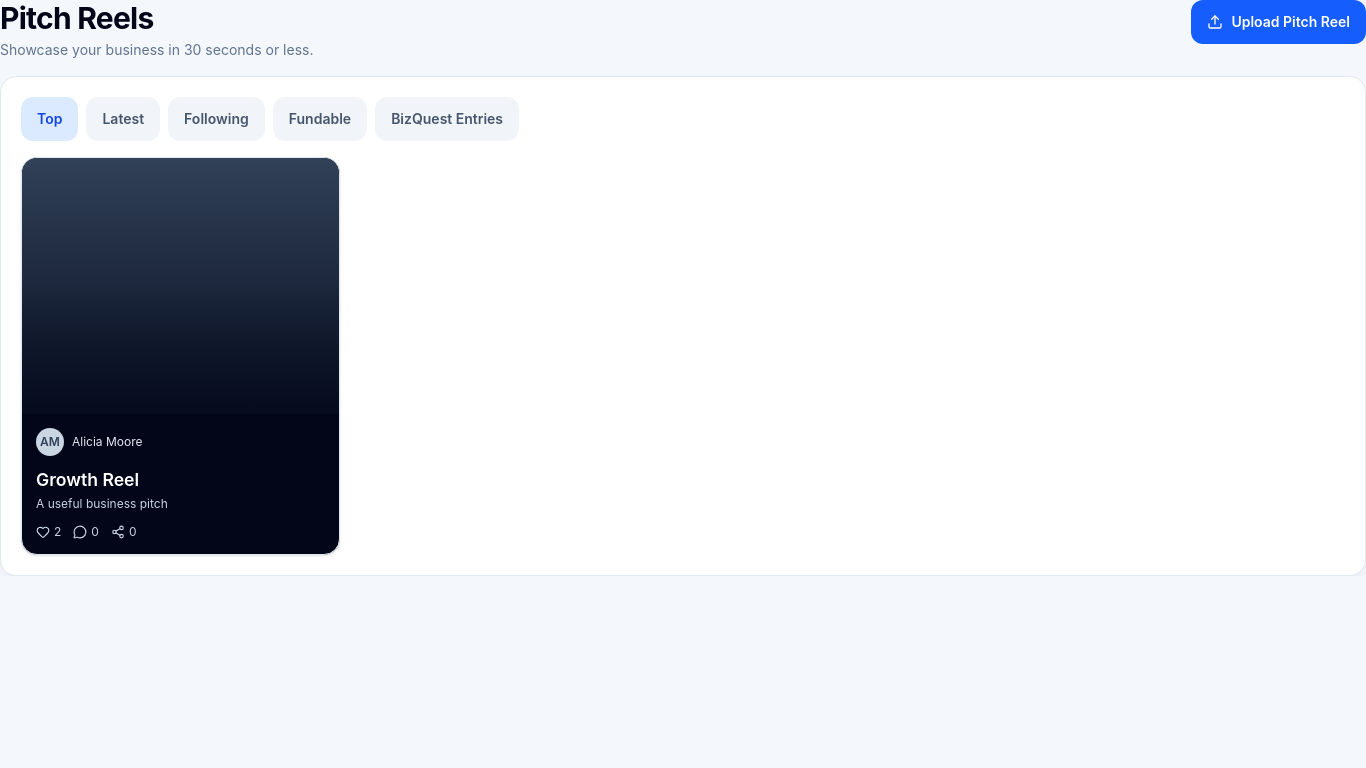
PitchReelsPage interactions › loads and creates comments while synchronizing the count
This screenshot has width=1366, height=768.
Click the button with aria-label "open pitch reel: growth reel". click: (180, 356)
box: top-left (21, 157), bottom-right (340, 555)
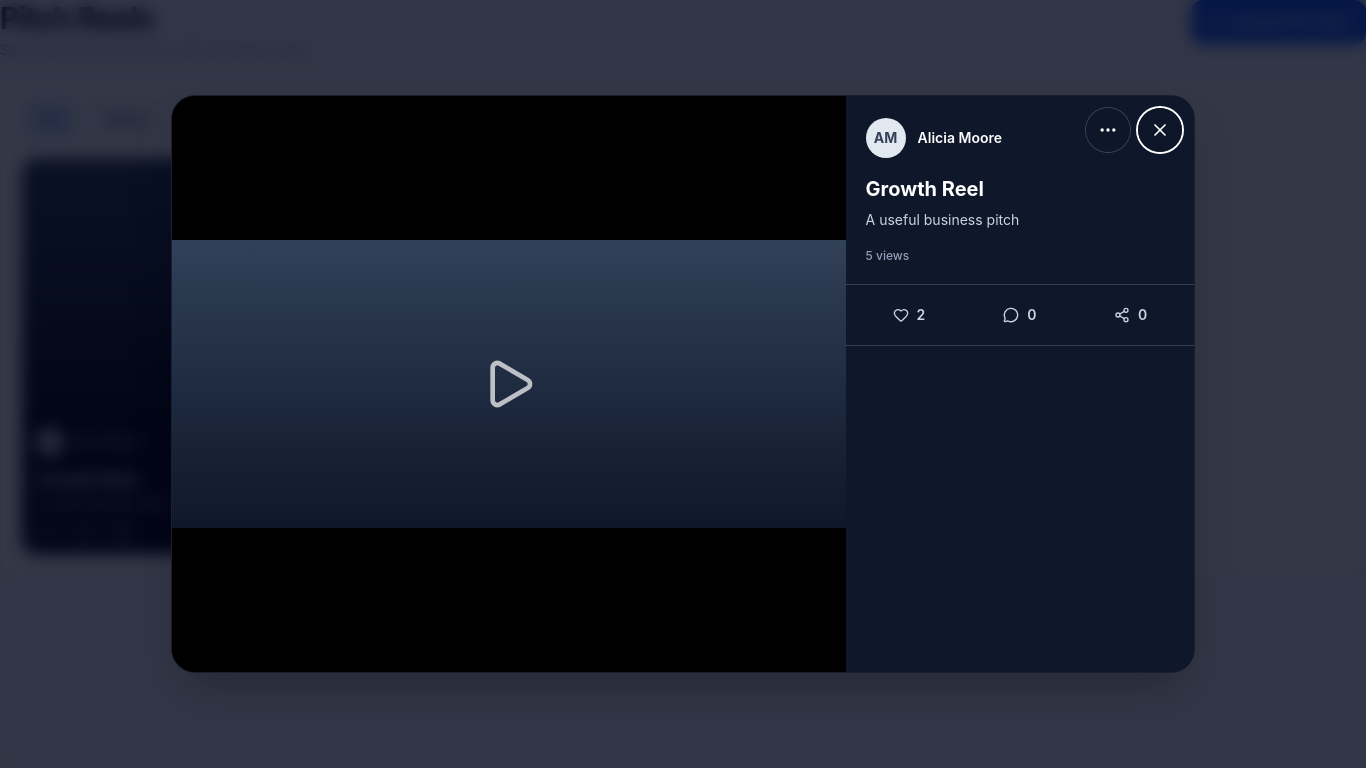
Result: the dialog "Growth Reel" is shown
Click the button named "comments, 0". click: (1020, 314)
box: top-left (964, 292), bottom-right (1075, 336)
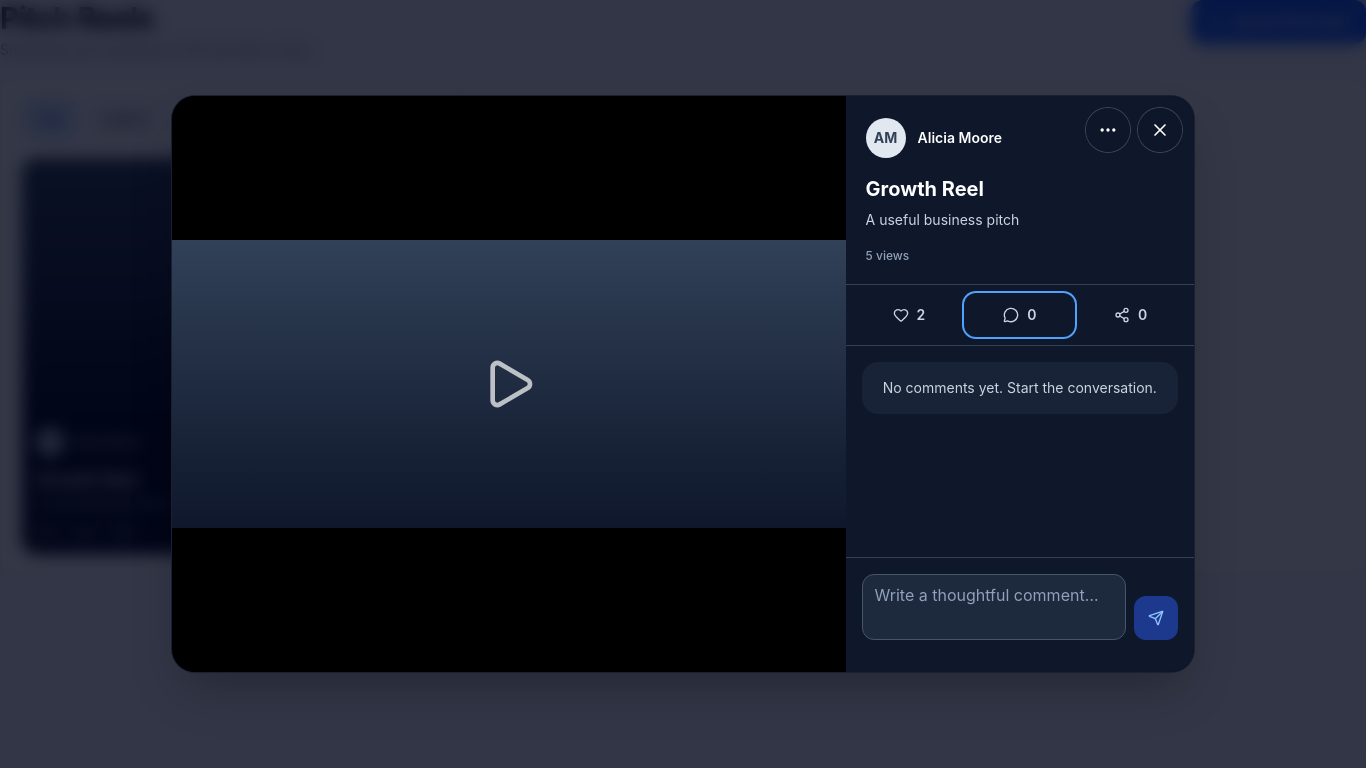
Result: the text "No comments yet. Start the conversation." is shown at top-left (862, 362), bottom-right (1178, 414)
Type "Strong pitch" into the text box named "Write a Reel comment". click: (994, 607)
box: top-left (862, 574), bottom-right (1126, 640)
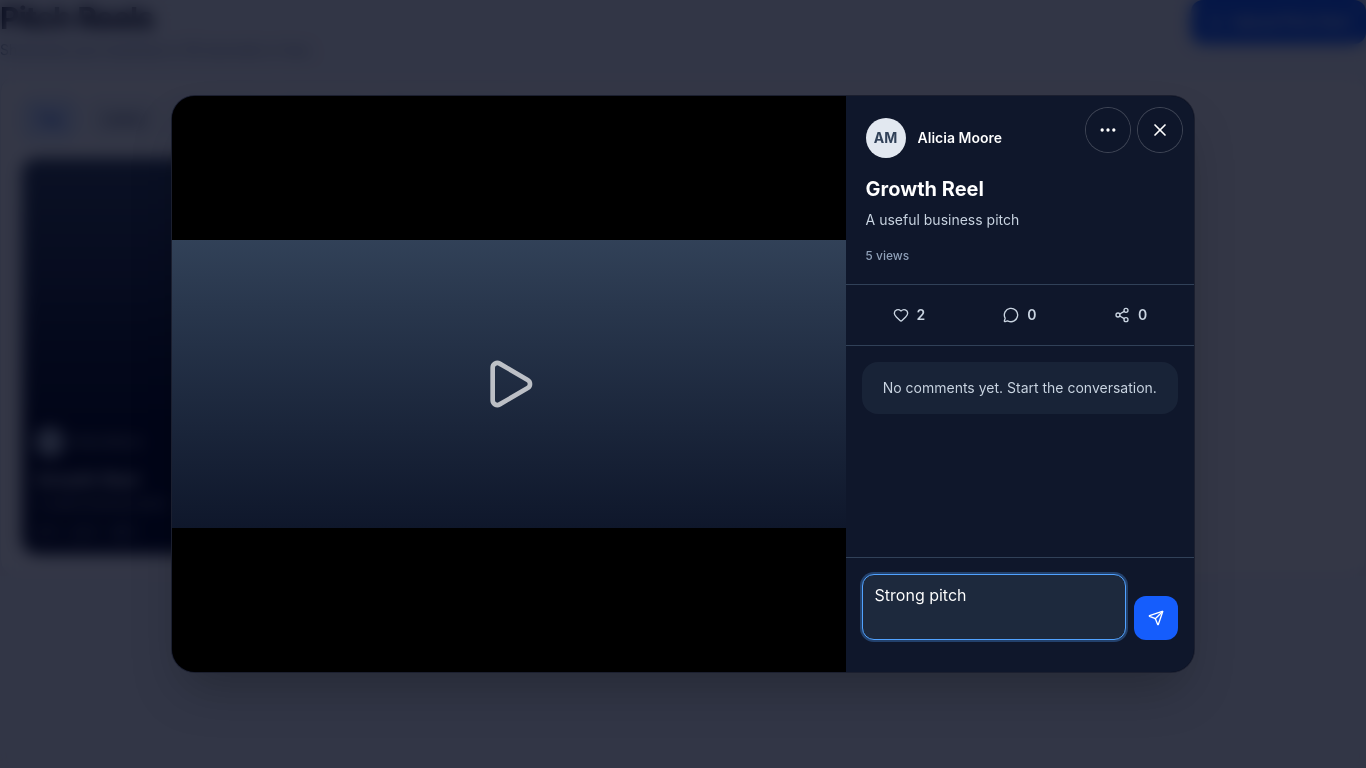
Click the button named "Post Reel comment". click: (1156, 618)
box: top-left (1134, 596), bottom-right (1178, 640)
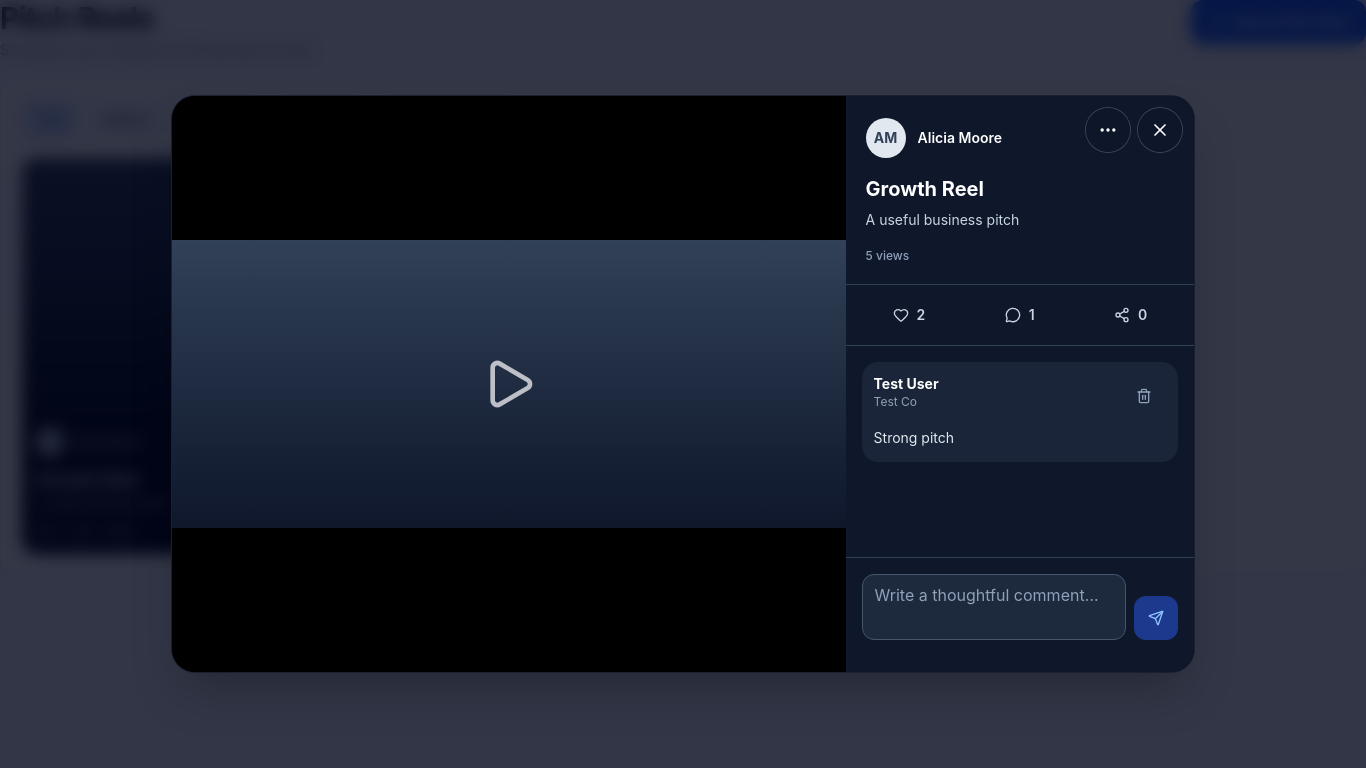
Result: the text "Strong pitch" is shown at top-left (874, 428), bottom-right (954, 446)
Result: the button named "comments, 1" is shown at top-left (964, 292), bottom-right (1075, 336)
